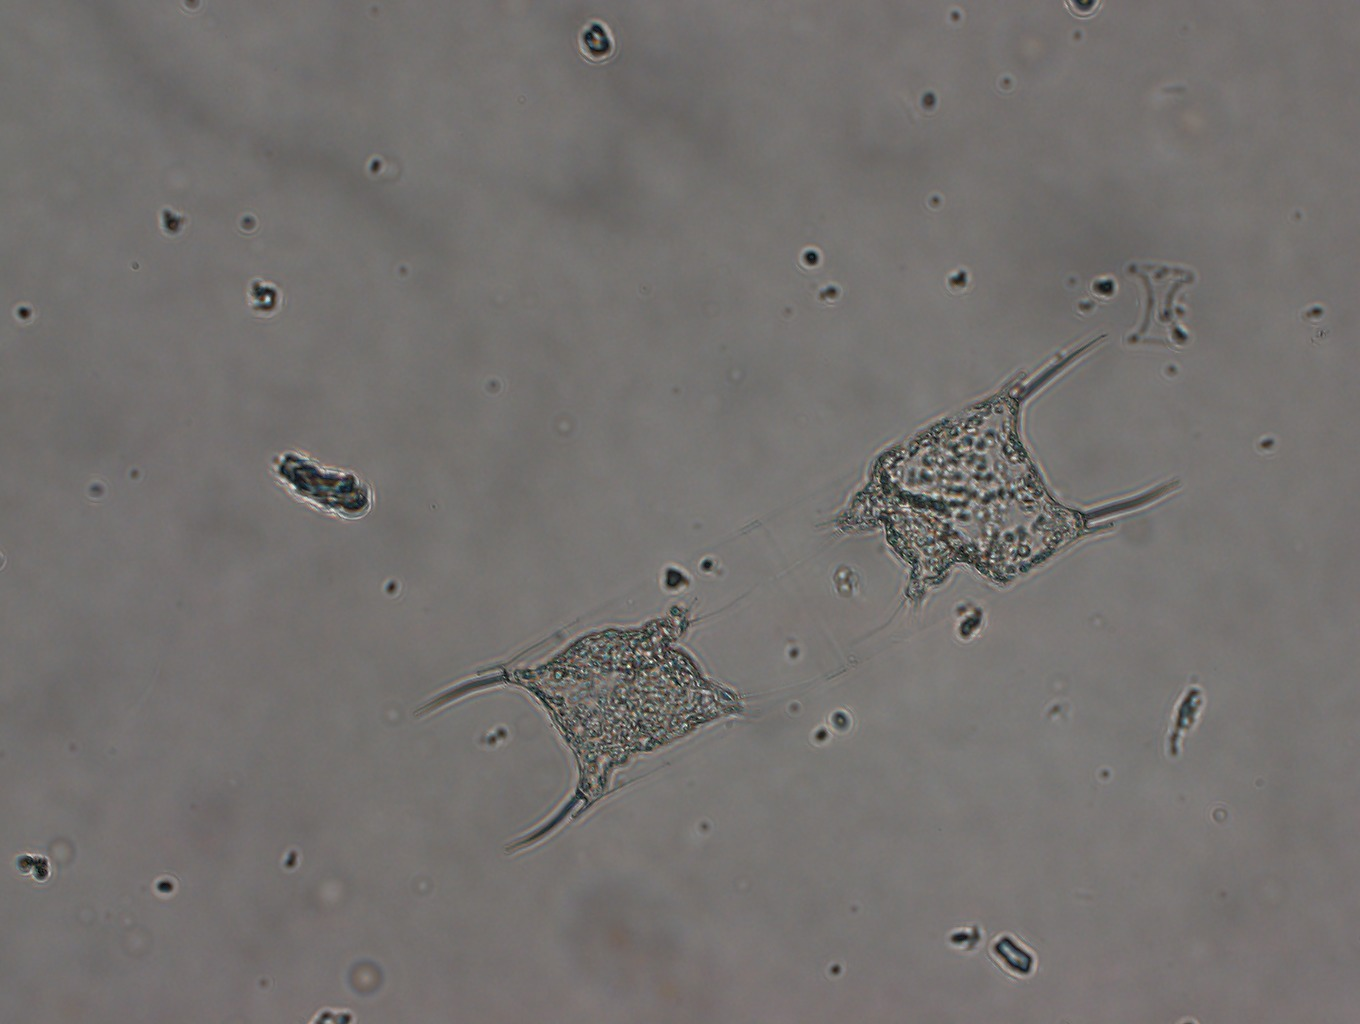biddulphia: (402, 314, 1186, 861)
